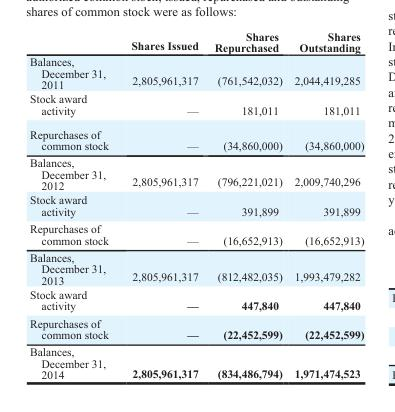table: (29, 29, 363, 380)
table column: (29, 29, 119, 380), (119, 29, 205, 380), (205, 29, 287, 380), (287, 29, 363, 380)
table column header: (29, 29, 363, 54)
table row: (29, 153, 363, 192), (29, 248, 363, 286), (29, 342, 363, 380), (29, 54, 363, 91), (29, 121, 363, 153), (29, 91, 363, 121), (29, 219, 363, 248), (29, 286, 363, 314), (29, 314, 363, 342), (29, 192, 363, 219), (29, 29, 363, 54)
